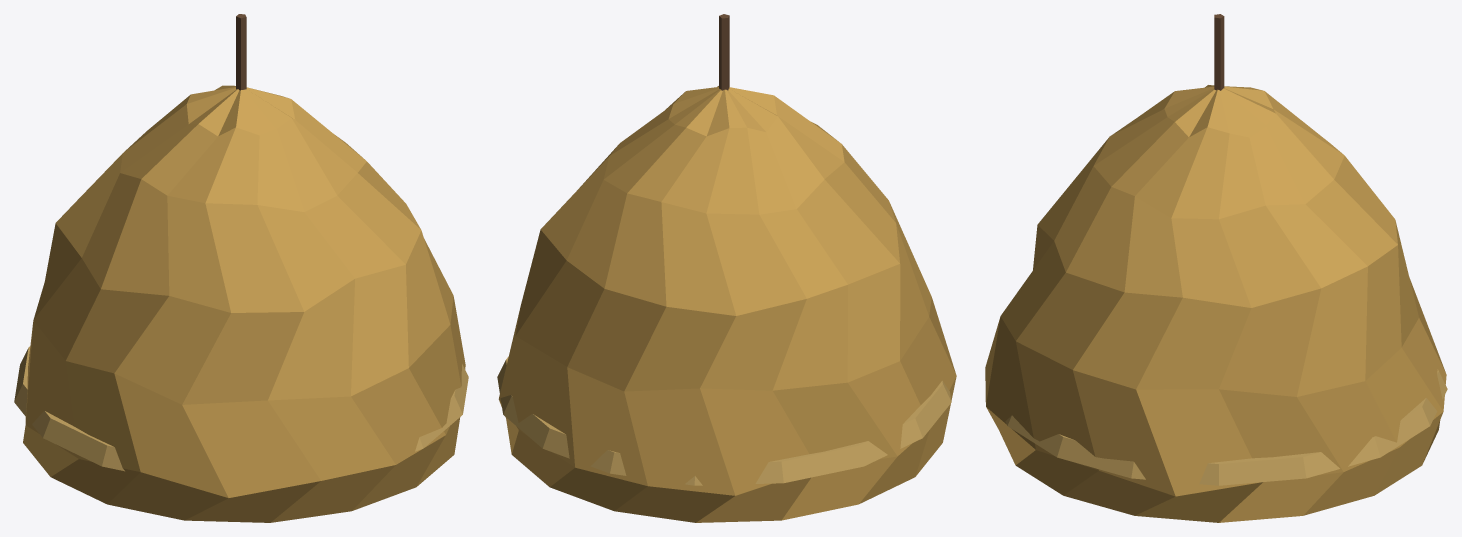
File: haystack.glb
3 renders of one model, left to right at view 1: azimuth 30°, elevation 25°; view 2: azimuth 150°, elevation 25°; view 3: azimuth 270°, elevation 25°, orthographic.
Visible parts, largest first — view 1: haystack; view 2: haystack; view 3: haystack.
Part boxes in pixels (<box>): haystack: <box>14,14,468,522</box>; haystack: <box>497,14,956,522</box>; haystack: <box>985,14,1447,522</box>.
Size of the model in its own units: 4.2 by 4.15 by 4.2.
